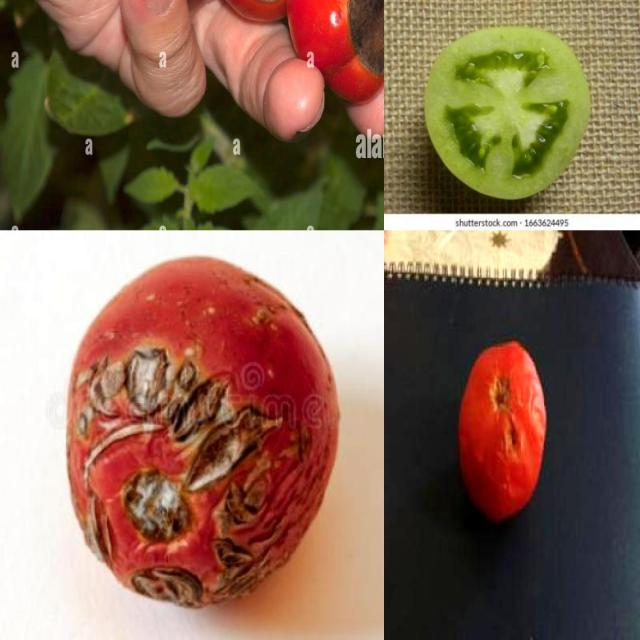Rotten_Tomato: (55, 255, 356, 613), (453, 334, 554, 529), (94, 0, 218, 79), (289, 0, 384, 95), (215, 0, 320, 70)
